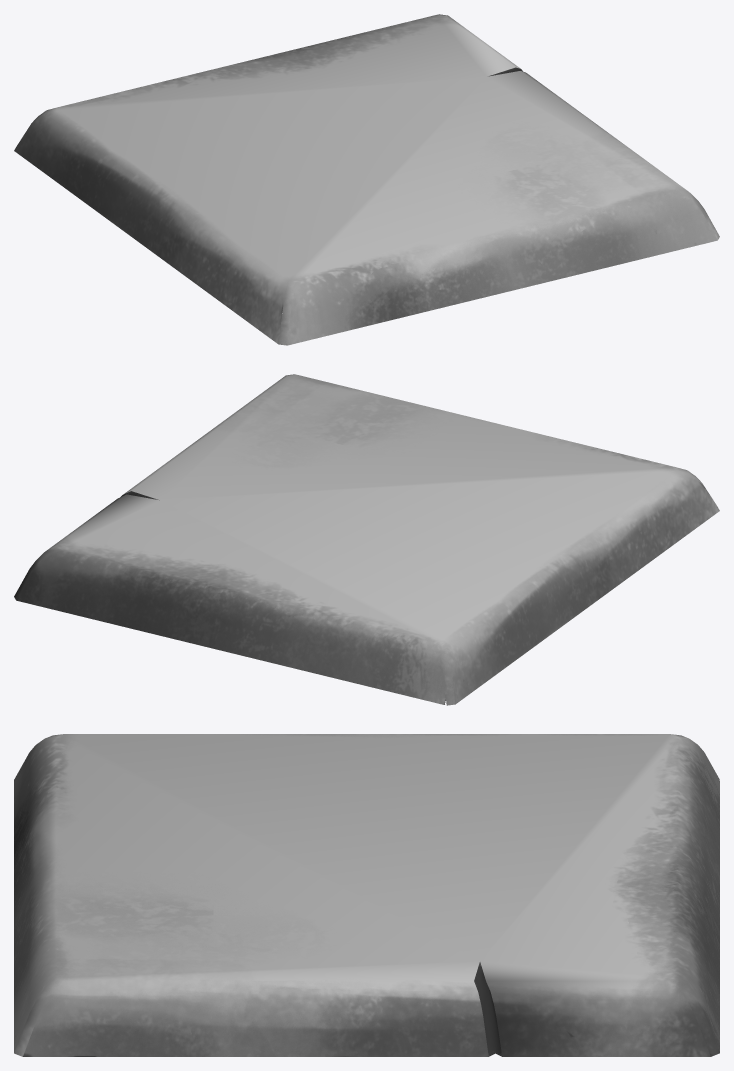
Rendered from RockSlabModel.fbx.
3 views of the same model, one above another, from view 1: azimuth 30°, elevation 25°; view 2: azimuth 150°, elevation 25°; view 3: azimuth 270°, elevation 25° (orthographic). The views are drawn at different scales.
Visible parts, largest first — view 1: Cube; view 2: Cube; view 3: Cube.
Part boxes in pixels (bbox=[...]): Cube: bbox=[14, 14, 719, 345]; Cube: bbox=[14, 374, 719, 705]; Cube: bbox=[14, 734, 719, 1056].
Bounding box in the file's own units: 213 × 20.95 × 227.
